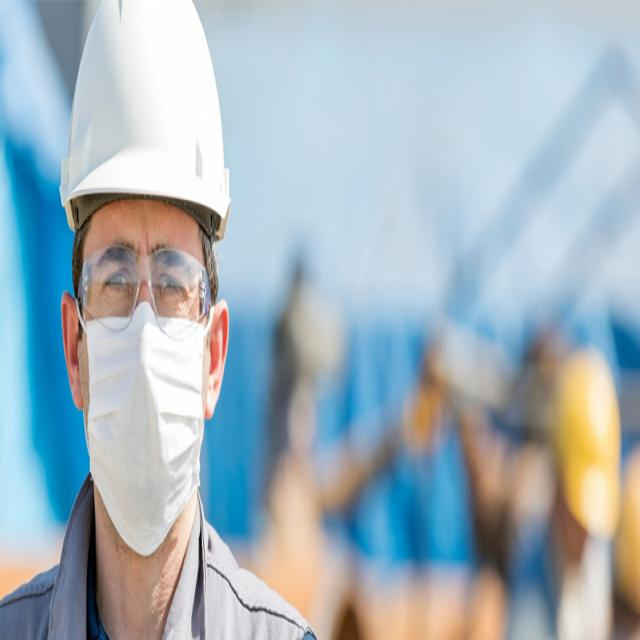Helmet: (63, 0, 229, 237)
Mask: (69, 295, 211, 562)
Protective Glasses: (68, 244, 216, 338)
